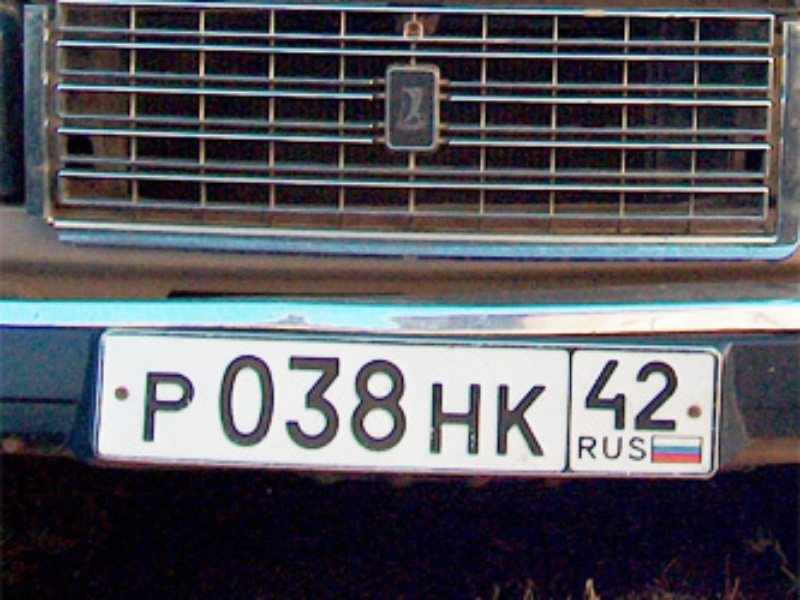plate: (94, 330, 714, 472)
